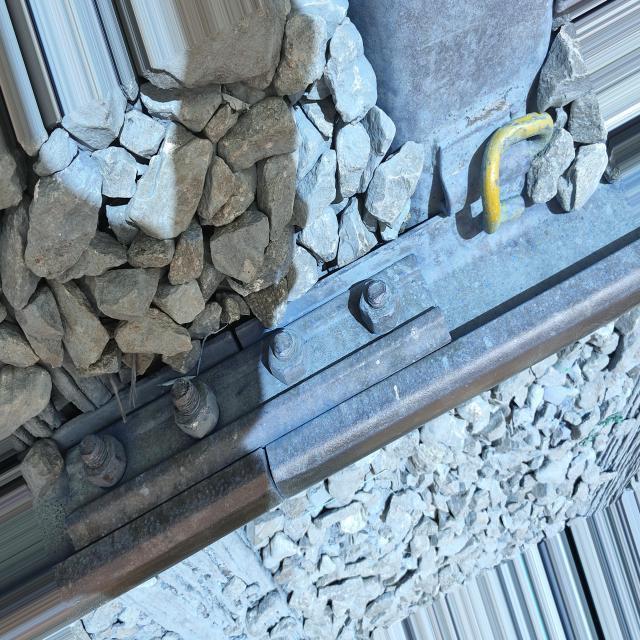Good Fasteners: (440, 112, 553, 234)
Good Joint: (47, 260, 457, 556)
